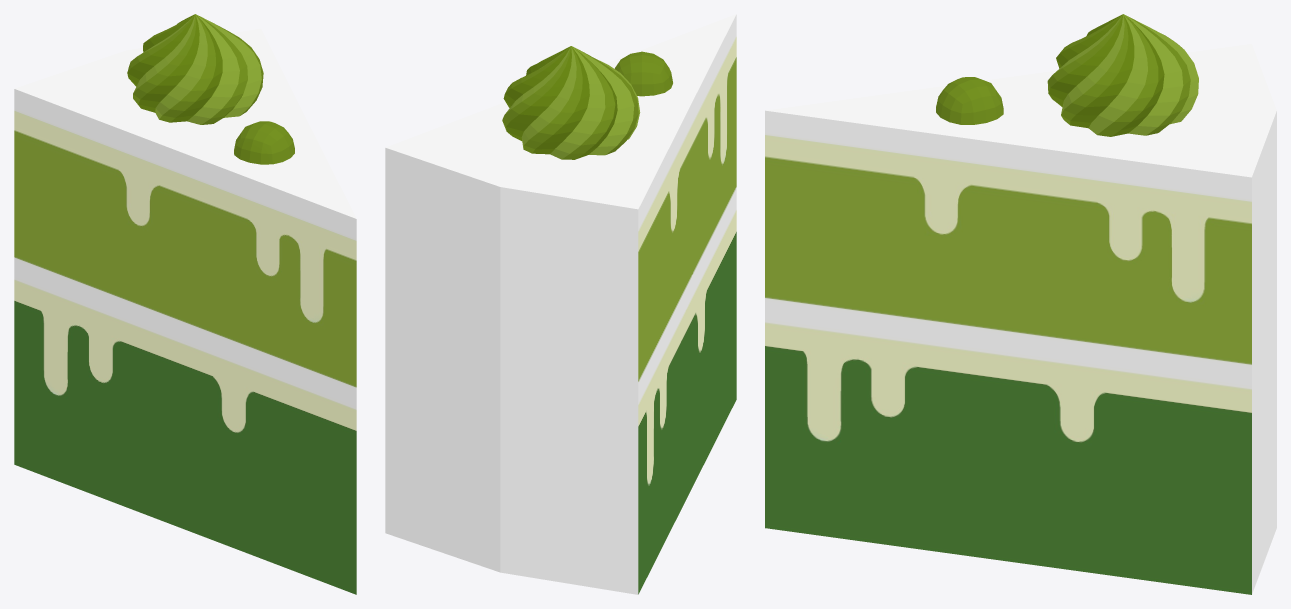
The model's file is Luck.glb.
3 renders of one model, left to right at view 1: azimuth 30°, elevation 25°; view 2: azimuth 150°, elevation 25°; view 3: azimuth 270°, elevation 25°, orthographic. The views are drawn at different scales.
Parts seen in each view (by area): view 1: Slice; view 2: Slice; view 3: Slice.
Part boxes in pixels (bbox=[...]): Slice: bbox=[14, 14, 356, 594]; Slice: bbox=[385, 14, 736, 594]; Slice: bbox=[765, 14, 1276, 594].
Bounding box in the file's own units: 0.1236 × 0.2217 × 0.2.
Materials: 1 (1 with a texture image).
